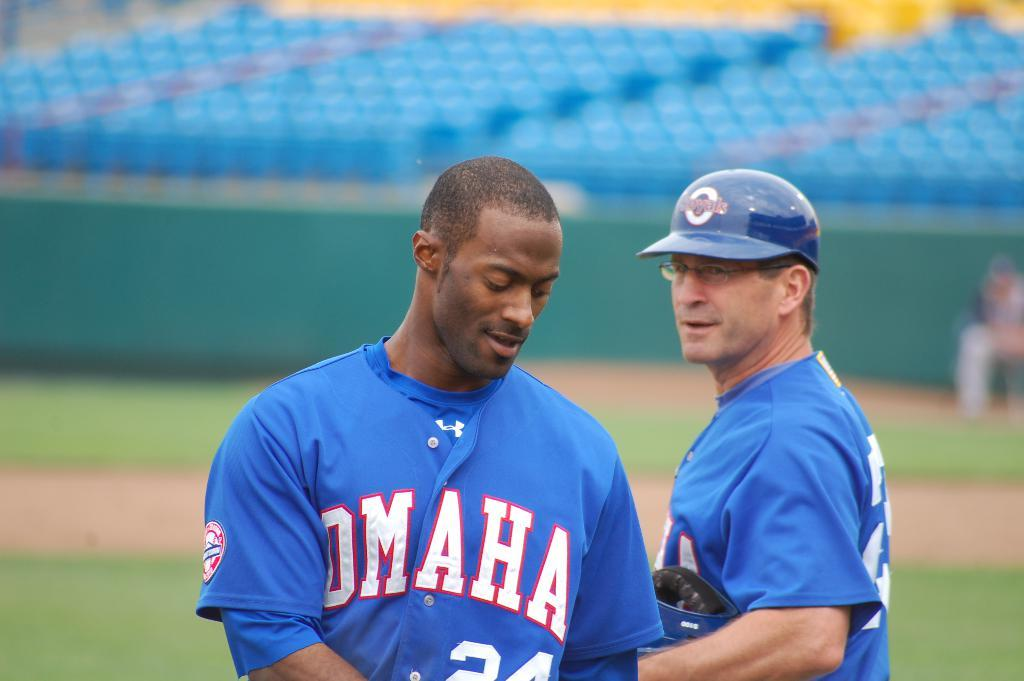Hat: (636, 166, 824, 274)
